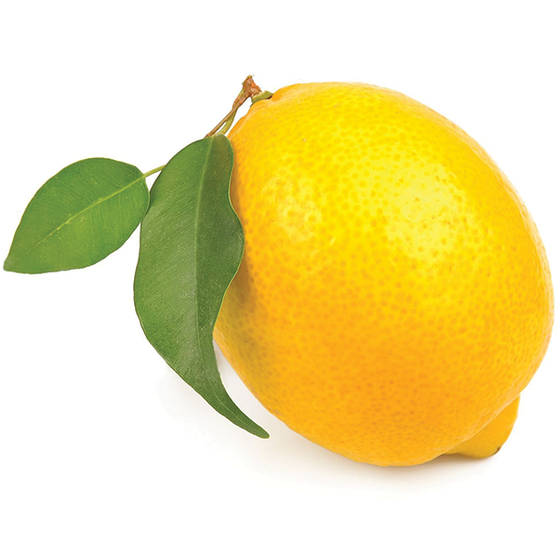lemon: (212, 82, 551, 469)
